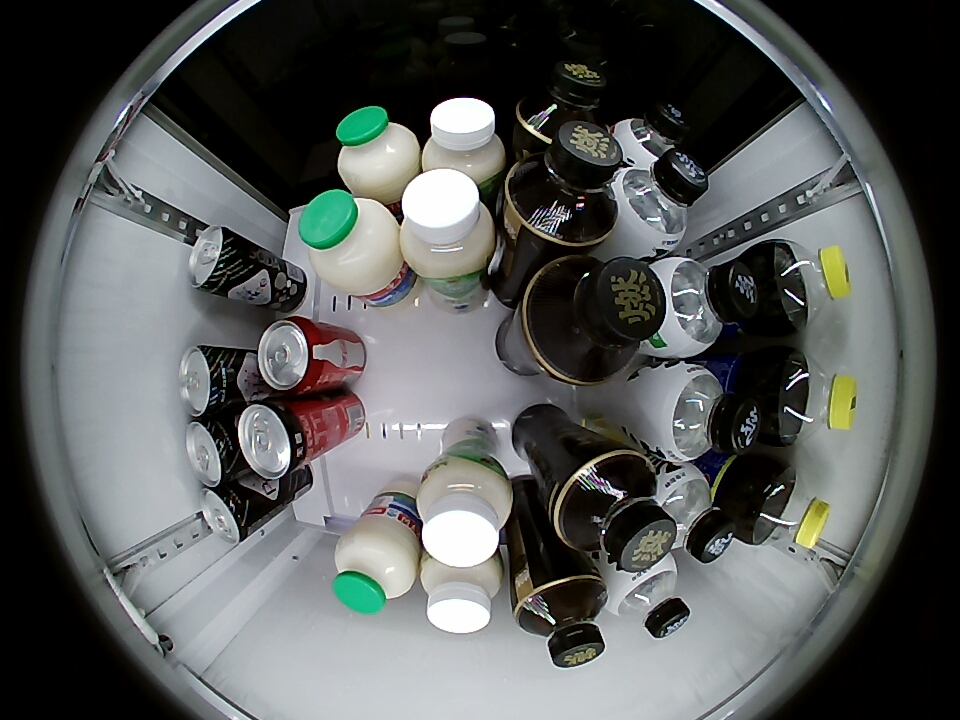baishikele: (775, 351, 858, 444), (768, 241, 851, 330), (749, 467, 832, 551)
kele: (255, 316, 325, 396)
lingdukele: (238, 399, 315, 480)
liziyuan: (299, 189, 403, 296), (332, 517, 419, 616), (336, 105, 420, 202)
qingdaowangzi-1: (178, 344, 236, 418), (185, 417, 241, 486), (187, 226, 242, 294), (198, 484, 256, 543)
rancha-1: (520, 255, 667, 385), (553, 450, 679, 571), (508, 121, 623, 246), (513, 575, 607, 669), (516, 60, 605, 147)
yousuanru: (399, 169, 502, 281), (416, 456, 514, 567), (421, 97, 507, 189), (420, 550, 504, 634)
yuanqishui: (643, 360, 761, 461), (650, 256, 758, 359), (609, 150, 708, 257), (652, 462, 734, 563), (605, 555, 691, 639), (612, 98, 689, 168)
